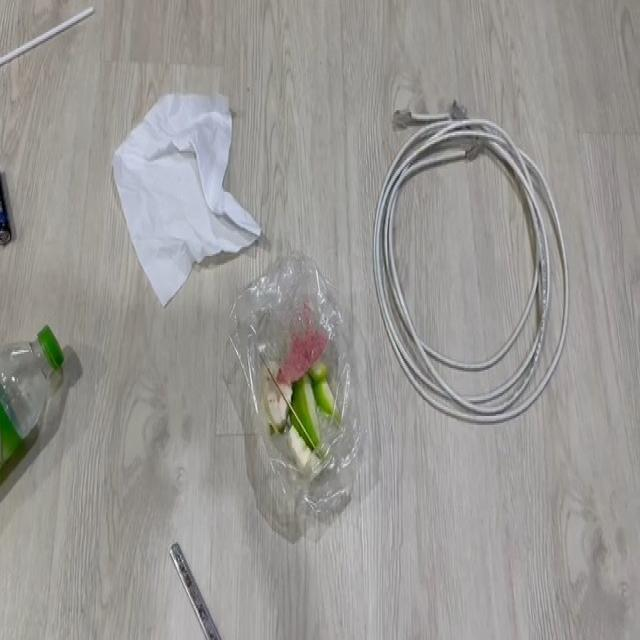Anorganik: (120, 70, 258, 294), (0, 344, 55, 522), (163, 531, 229, 640), (0, 22, 79, 87)
B3: (380, 107, 551, 409), (227, 290, 372, 529), (0, 165, 13, 251)
